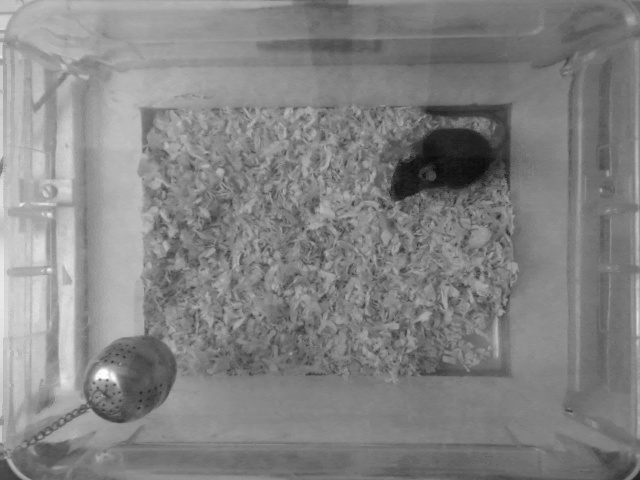mice: (385, 101, 518, 204)
